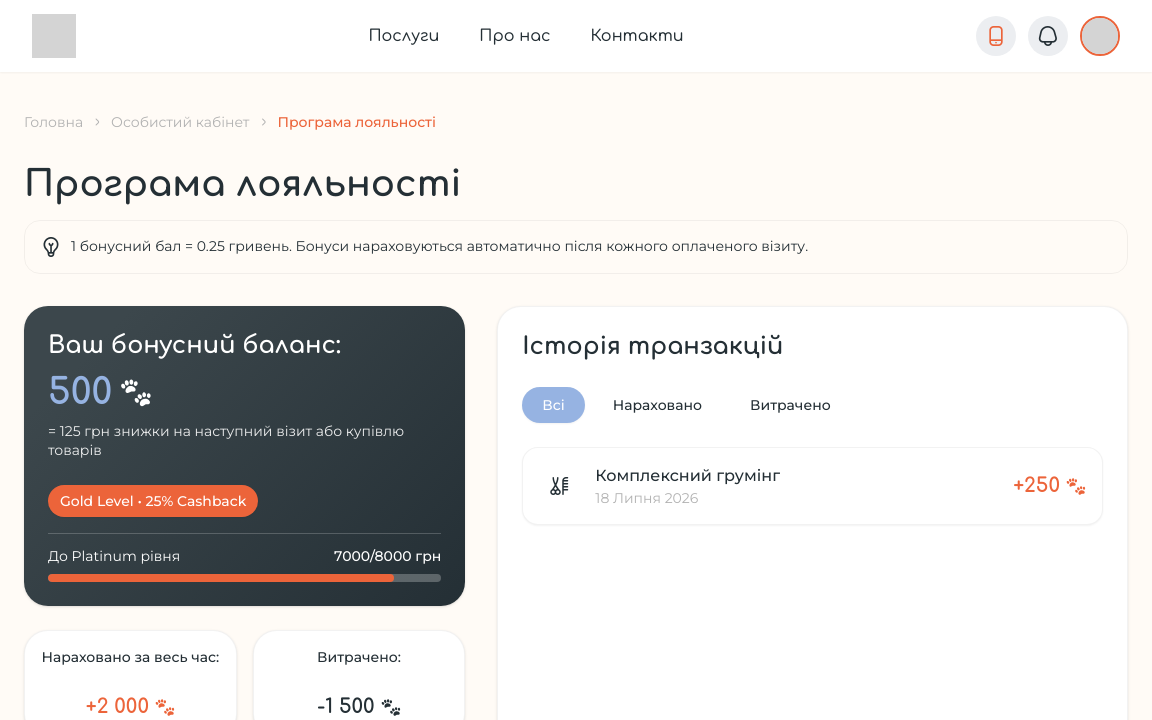
Test case: LoyaltyProgramPage › renders empty state when there are no transactions matching the filter
What coordinates should you click on to do the following:
click the tab "Витрачено"
I would click on:
 (790, 405)
Its box is left=730, top=387, right=851, bottom=423.
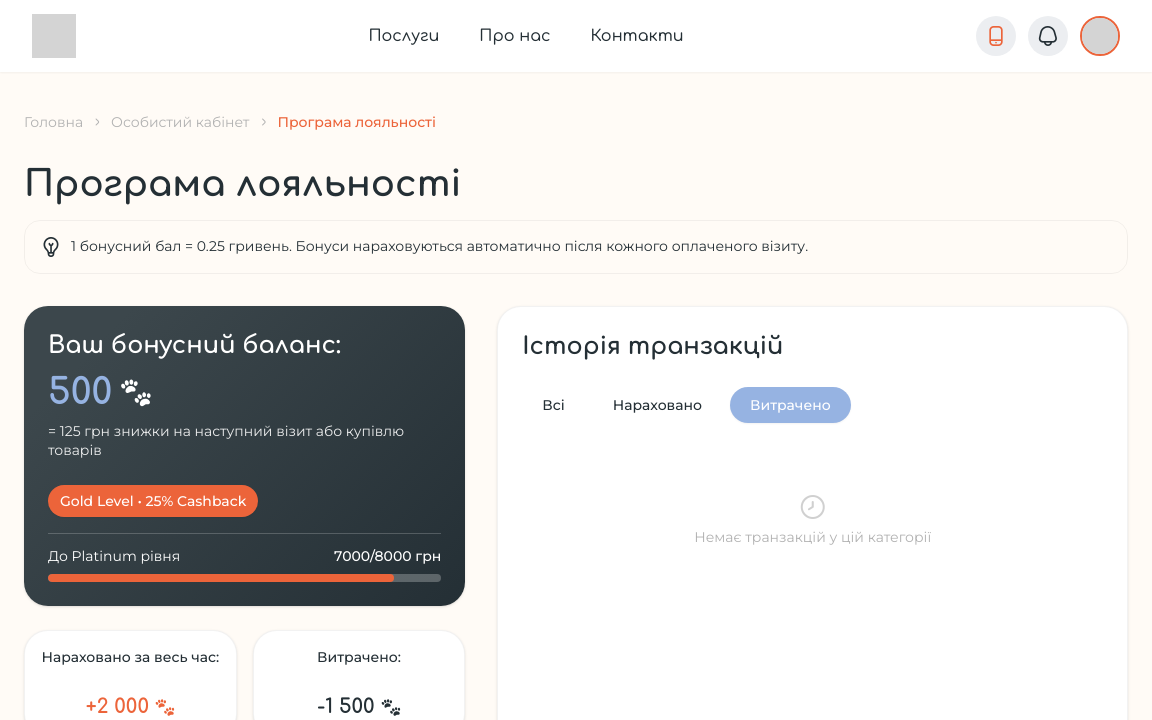
Expected: the element with test id "no-transactions" is shown, left=694, top=495, right=931, bottom=546
Expected: the text "Немає транзакцій у цій категорії" is shown, left=694, top=527, right=931, bottom=547
